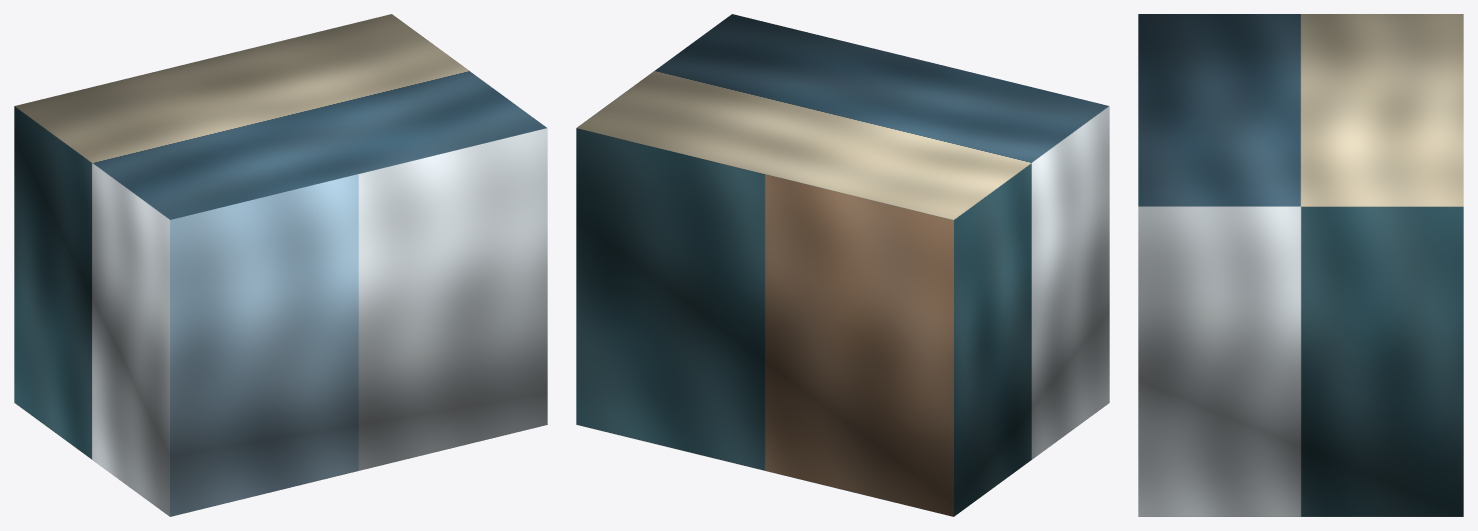
Rendered from ice_rock_b.glb.
The picture shows the model from 3 angles, left to right: view 1: azimuth 30°, elevation 25°; view 2: azimuth 150°, elevation 25°; view 3: azimuth 270°, elevation 25°; orthographic projection. The views are drawn at different scales.
Visible parts, largest first — view 1: col; view 2: col; view 3: col.
Part boxes in pixels (x1,y1,x2,y2): col: [14, 14, 547, 516]; col: [576, 14, 1109, 516]; col: [1138, 14, 1463, 516].
Size of the model in its own units: 2.34 by 1.76 by 1.67.
1 material, 1 textured.
